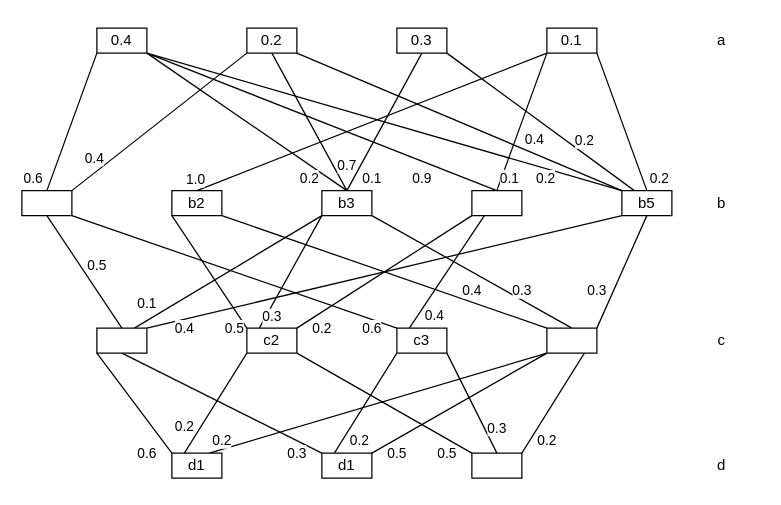
Image size: 781x505. Some labels were removed from this diagram. Here are the shapes that lost their labels. From the top down, the centre of each, then its label:
(x=46, y=202): b1
(x=496, y=202): b4
(x=121, y=340): c1
(x=571, y=340): c4
(x=496, y=465): d3
